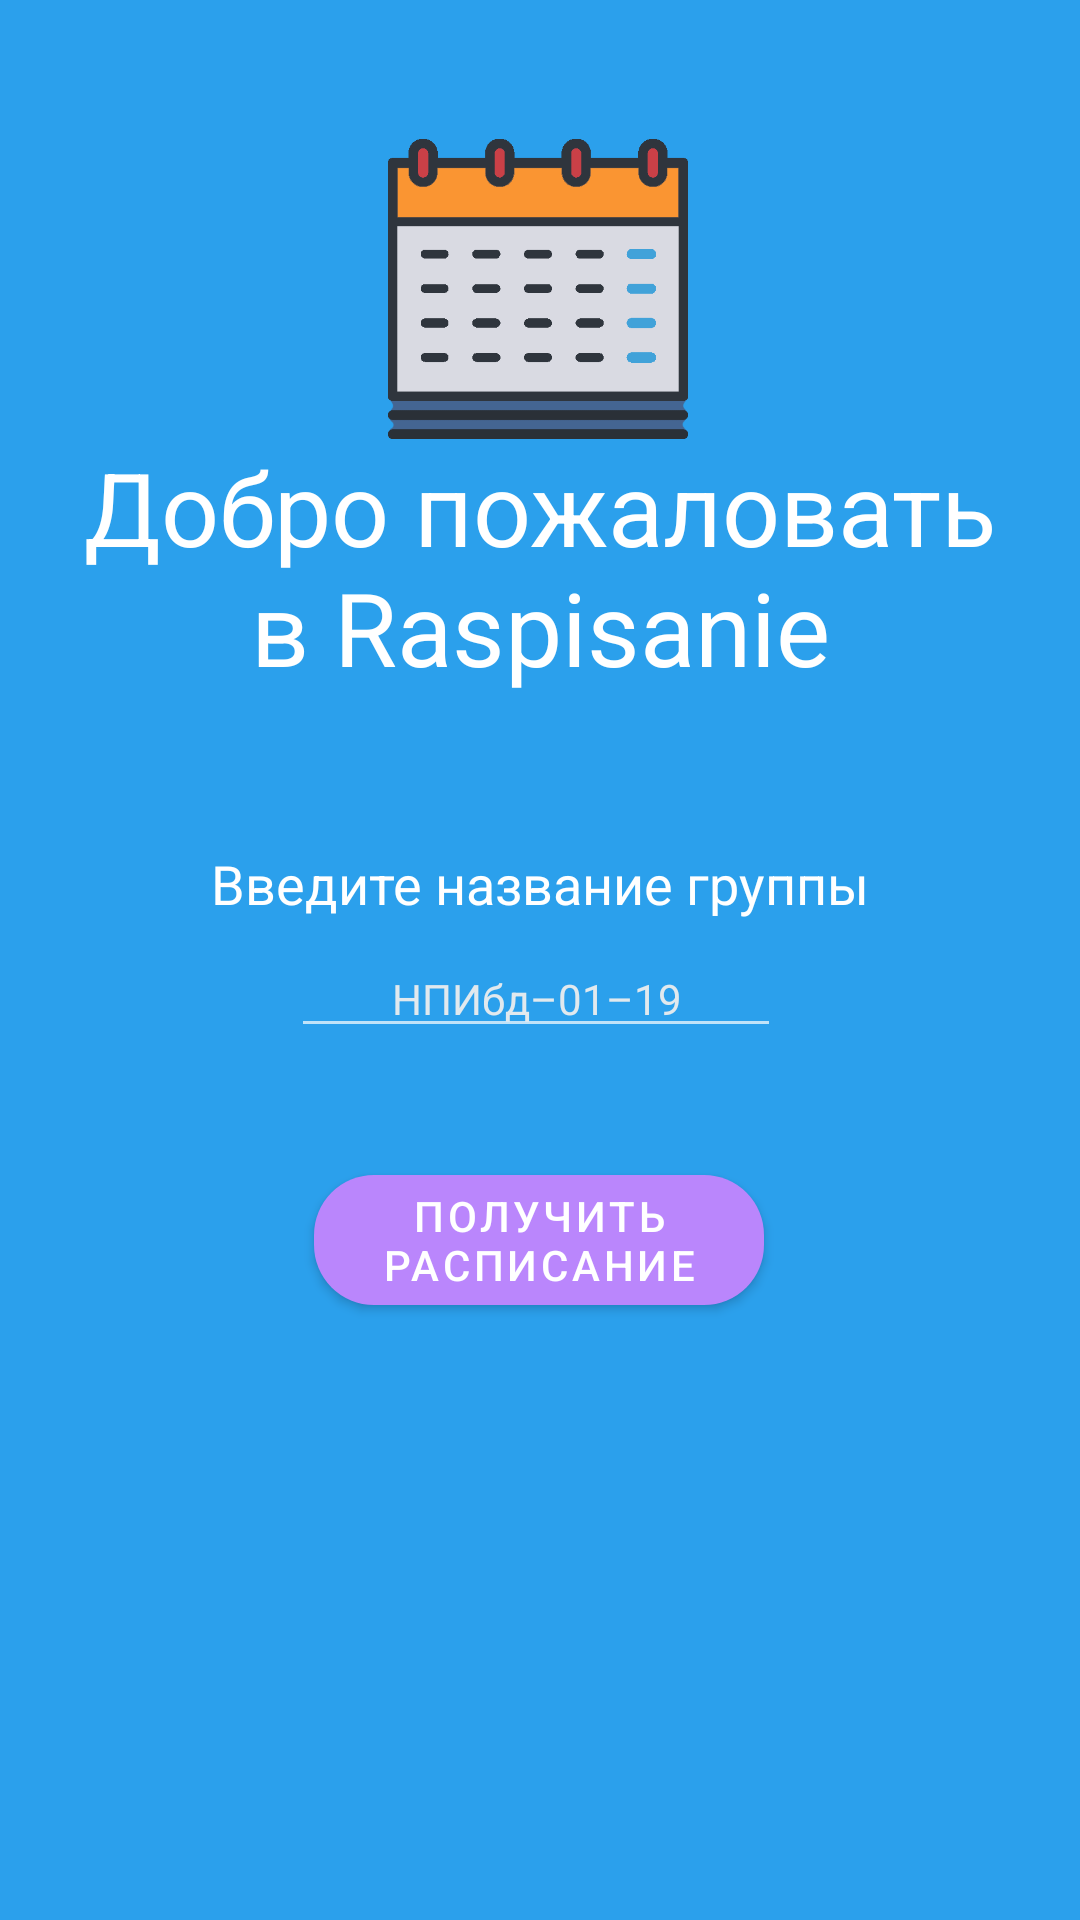

Named icons in this screenshot (1080px×1920px) and their centers, point (x, y):
schedule: point (538, 289)
